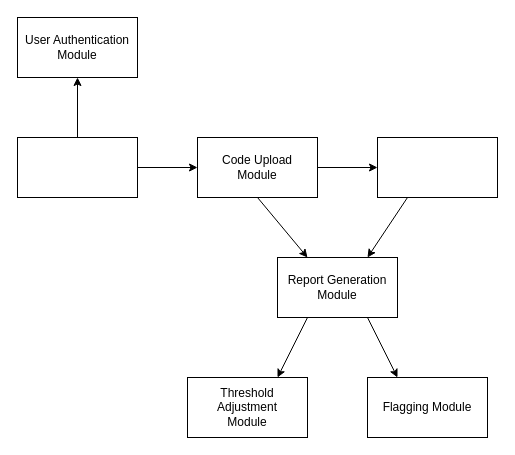
This 515x455 diagram has some shape labels left out. The shapes that lost their labels are listed below. From the top down, each one's box as (x1, y1, x2, y2) in pixels, then its label:
(16, 136, 138, 198): Landing Page
(376, 136, 498, 198): Results Upload Module
